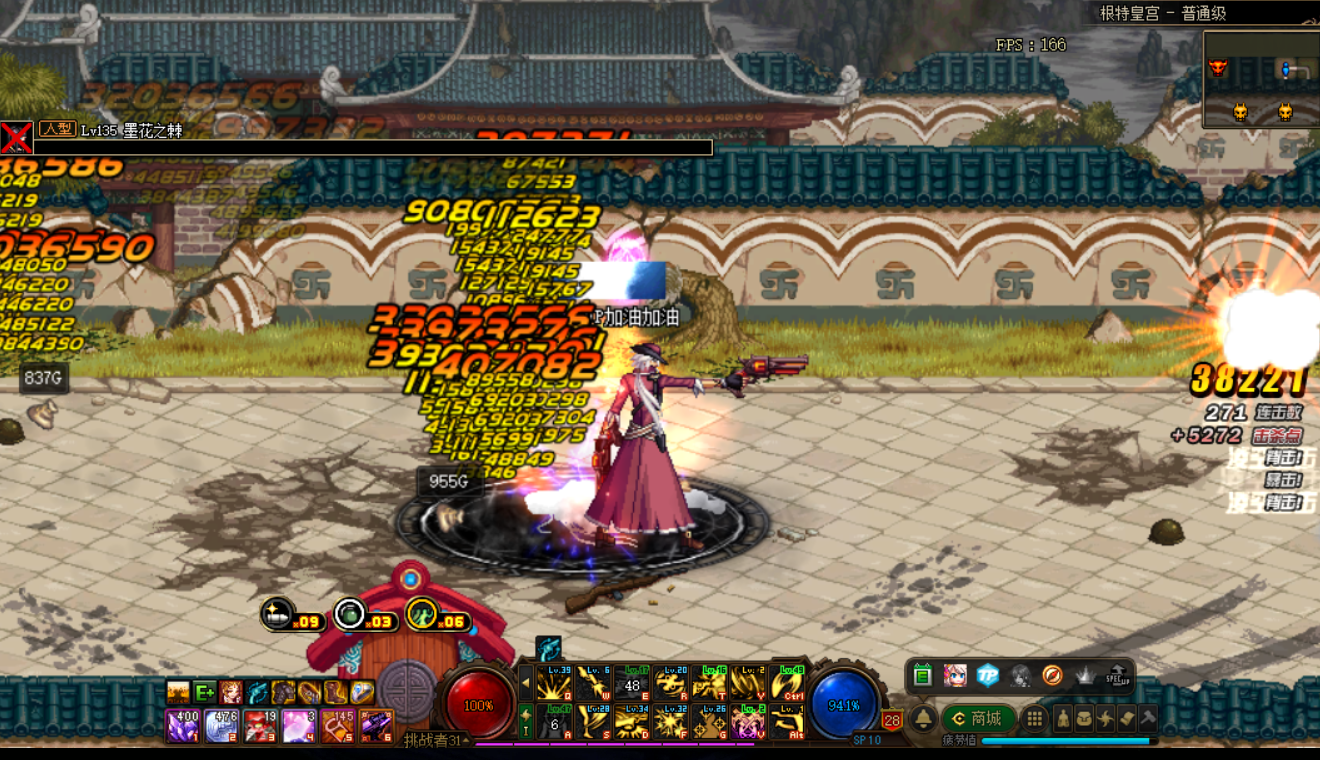warrior: (589, 338, 816, 552)
